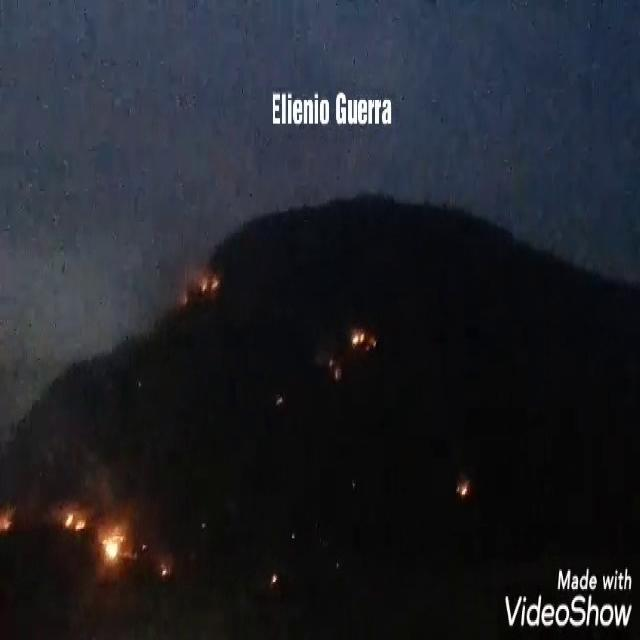Fire: (97, 522, 128, 564), (62, 505, 86, 531), (347, 324, 369, 347), (200, 276, 217, 296)
Smoke: (12, 392, 122, 512)
